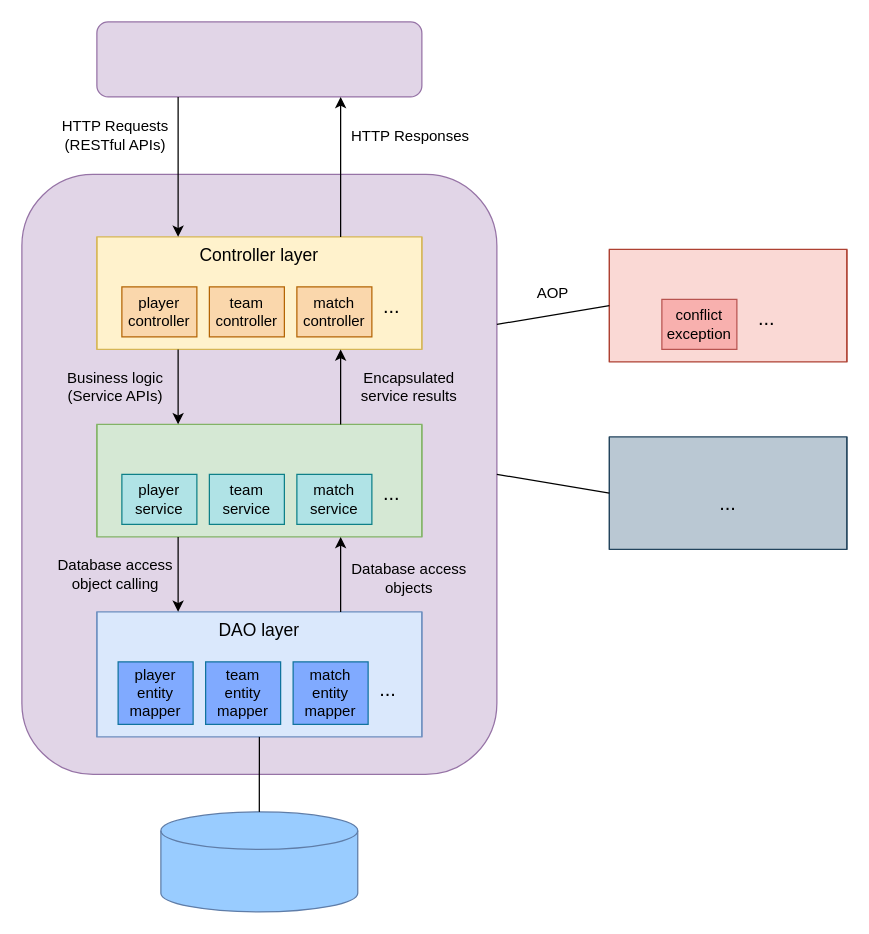
This 869x934 diagram has some shape labels left out. The box of each missing label's shape, as (x1, y1, x2, y2) in pixels:
Back-end server: (21, 173, 497, 774)
database: (160, 811, 358, 912)
Exceptions & Handler: (608, 248, 847, 362)
Front-end server: (96, 21, 422, 97)
Service layer: (96, 423, 422, 537)
Utils: (608, 436, 847, 549)
